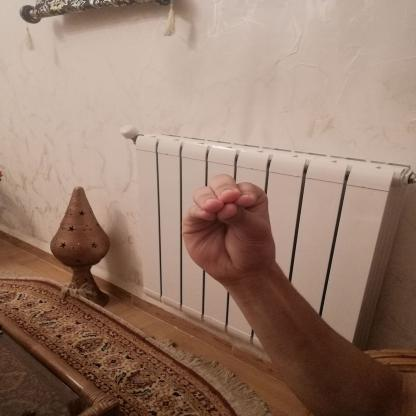HA: (167, 168, 295, 290)
